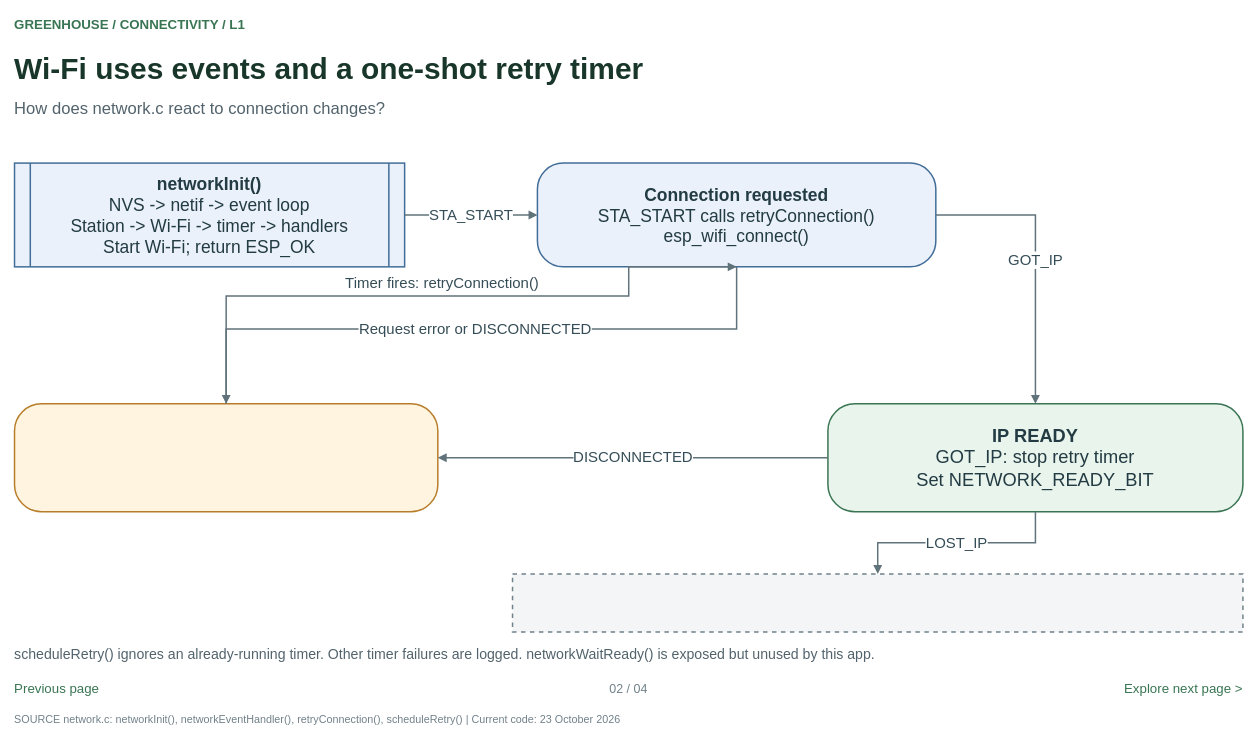
This 1258x742 diagram has some shape labels left out. The centre of each missing label's shape, as x and y in pixels:
IP lost LOST_IP clears ready bit only: point 877,602
RETRY WAIT DISCONNECTED: clear ready bit Schedule one-shot timer: 3 seconds: point 225,457
